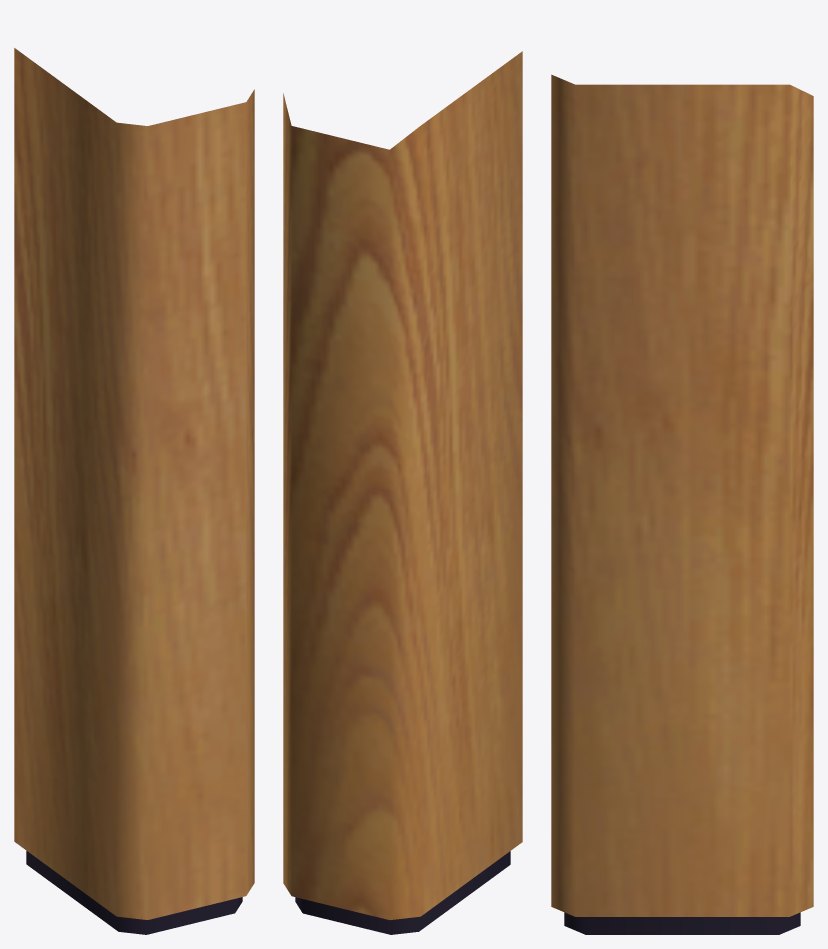
3 renders of one model, left to right at view 1: azimuth 30°, elevation 25°; view 2: azimuth 150°, elevation 25°; view 3: azimuth 270°, elevation 25°, orthographic. The views are drawn at different scales.
Parts seen in each view (by area): view 1: Joint_0_Object_0, Joint_0_Object_1; view 2: Joint_0_Object_0, Joint_0_Object_1; view 3: Joint_0_Object_0, Joint_0_Object_1.
Part boxes in pixels (<box>): Joint_0_Object_0: <box>14,48,254,919</box>; Joint_0_Object_1: <box>26,851,242,934</box>; Joint_0_Object_0: <box>283,51,522,919</box>; Joint_0_Object_1: <box>295,851,510,934</box>; Joint_0_Object_0: <box>551,74,813,916</box>; Joint_0_Object_1: <box>564,912,800,934</box>.
Bounding box in the file's own units: 70 × 395 × 110.
2 materials, 2 textured.
